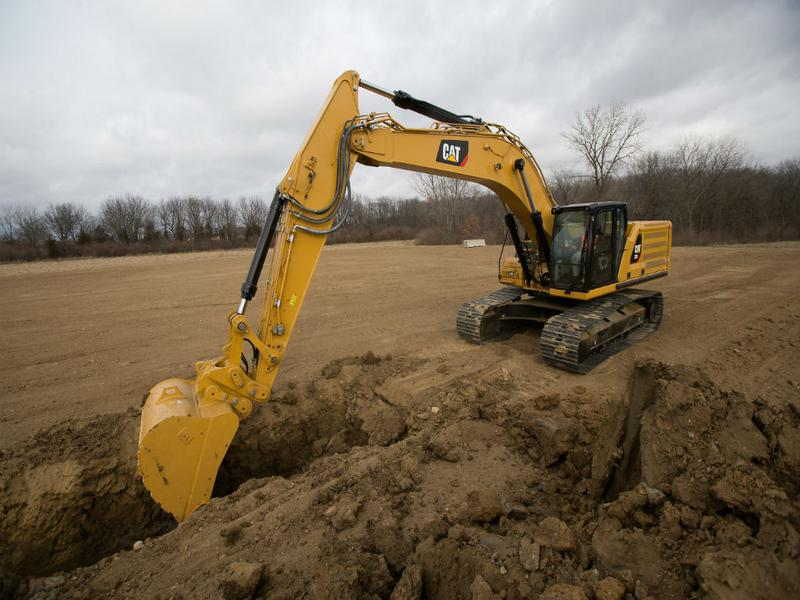shovel: (131, 63, 678, 527)
